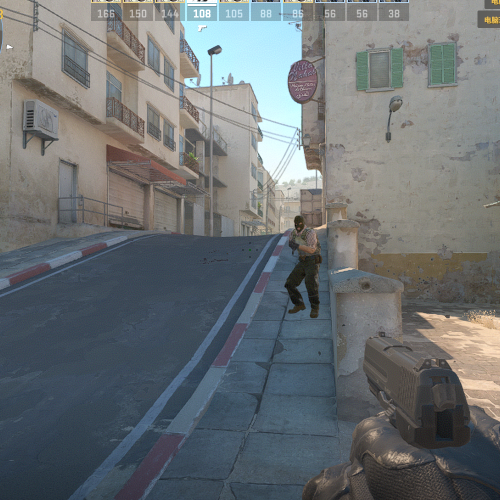t_body: (285, 215, 321, 319)
t_head: (293, 215, 305, 232)
